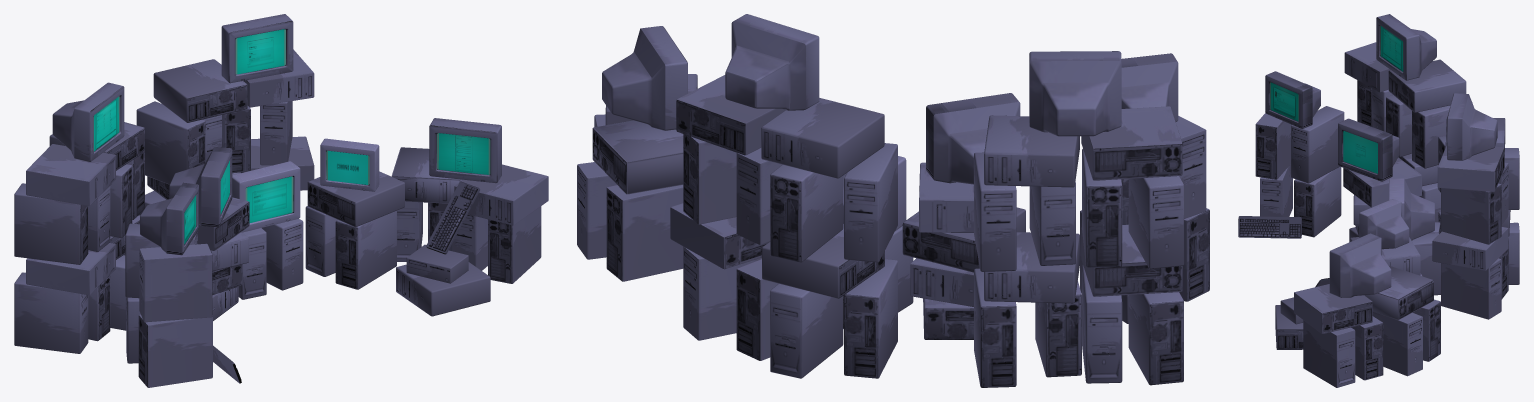
File: room3.glb
3 views of the same model, side by side, from view 1: azimuth 30°, elevation 25°; view 2: azimuth 150°, elevation 25°; view 3: azimuth 270°, elevation 25° (orthographic). The views are drawn at different scales.
Parts seen in each view (by area): view 1: PC 01.010_29, PC 01.009_28, PC 01.016_39, PC 01.025_53, Screen_Contact, Screen_Testimonials, PC 01.033_65, Screen_Skills, PC 02.022_66, PC 01.029_60, PC 01.006_19, Screen_Experience (+34 smaller); view 2: Screen_Testimonials, Screen_Skills, PC 01.033_65, PC 02.033_92, Screen_Contact, PC 02.021_61, PC 02.022_66, PC 01.031_63, PC 02.016_47, PC 02.036_100, PC 01.029_60, Screen_Projects (+28 smaller); view 3: Screen_Contact, PC 01.050_95, PC 01.005_17, PC 01.041_83, Screen_Projects, Screen_Skills, PC 02.032_90, PC 01.052_97, PC 01.031_63, Screen_Testimonials, PC 01.004_15, Screen_About (+29 smaller).
Part boxes in pixels (x1,y1,x2,y2): PC 01.010_29: (139,243,212,322); PC 01.009_28: (138,314,212,387); PC 01.016_39: (14,272,88,353); PC 01.025_53: (14,183,88,264); Screen_Contact: (429,118,501,183); Screen_Testimonials: (221,14,293,83); PC 01.033_65: (153,59,247,122); Screen_Skills: (52,82,124,161); PC 02.022_66: (26,144,115,205); PC 01.029_60: (136,101,205,184); PC 01.006_19: (335,210,396,289); Screen_Experience: (232,161,300,232); Screen_Testimonials: (725,14,819,110); Screen_Skills: (1029,51,1121,136); PC 01.033_65: (761,98,884,178); PC 02.033_92: (606,185,683,281); Screen_Contact: (602,26,687,130); PC 02.021_61: (770,164,843,262); PC 02.022_66: (1081,106,1182,180); PC 01.031_63: (984,115,1079,187); PC 02.016_47: (770,283,843,378); PC 02.036_100: (592,120,683,194); PC 01.029_60: (844,143,897,262); Screen_Projects: (926,93,1020,184); Screen_Contact: (1329,233,1391,297); PC 01.050_95: (1441,183,1501,244); PC 01.005_17: (1291,106,1344,183); PC 01.041_83: (1441,258,1501,319); Screen_Projects: (1338,118,1399,181); Screen_Skills: (1376,14,1436,80); PC 02.032_90: (1303,320,1355,387); PC 01.052_97: (1294,284,1372,333); PC 01.031_63: (1388,59,1466,112); Screen_Testimonials: (1447,93,1497,160); PC 01.004_15: (1294,166,1341,237); Screen_About: (1265,71,1320,128).
Size of what is drawn, in the model's own units: 12.32 by 5.62 by 7.3.
15 materials, 14 textured.
